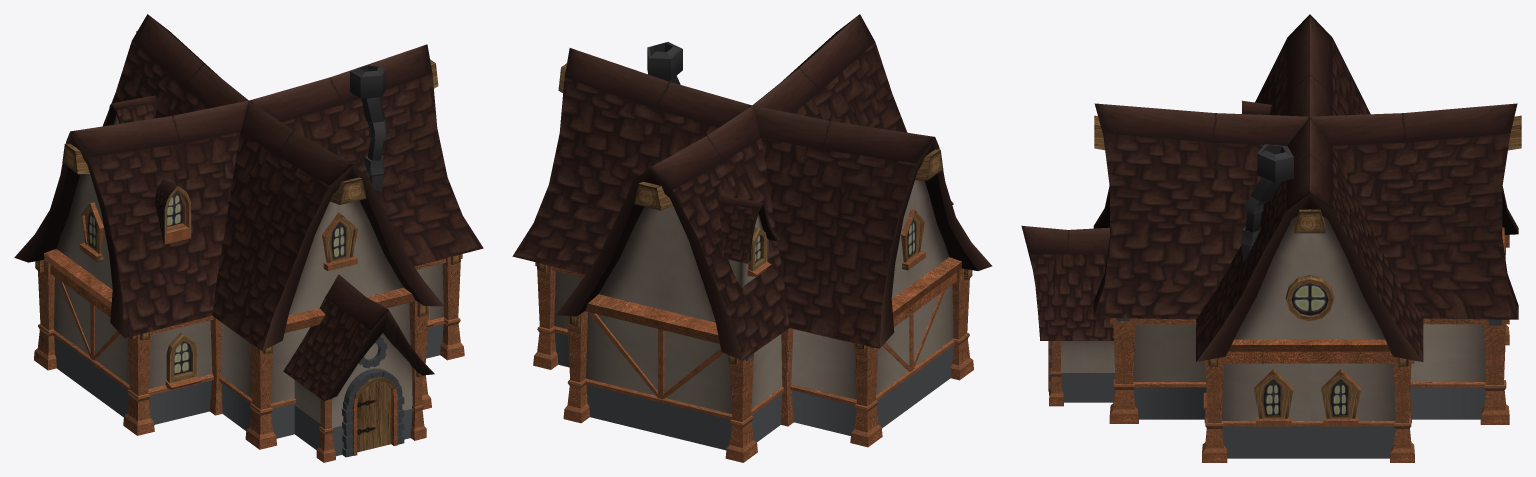
Rendered from fanasty_mod_village_building01.fbx.
3 renders of one model, left to right at view 1: azimuth 30°, elevation 25°; view 2: azimuth 150°, elevation 25°; view 3: azimuth 270°, elevation 25°, orthographic. The views are drawn at different scales.
Visible parts, largest first — view 1: village_building_01; view 2: village_building_01; view 3: village_building_01.
Boxes of the visible parts, bbox=[...] form: village_building_01: bbox=[14, 14, 483, 462]; village_building_01: bbox=[512, 14, 992, 462]; village_building_01: bbox=[1021, 14, 1521, 462].
Bounding box in the file's own units: 12.64 × 9.24 × 14.73.
